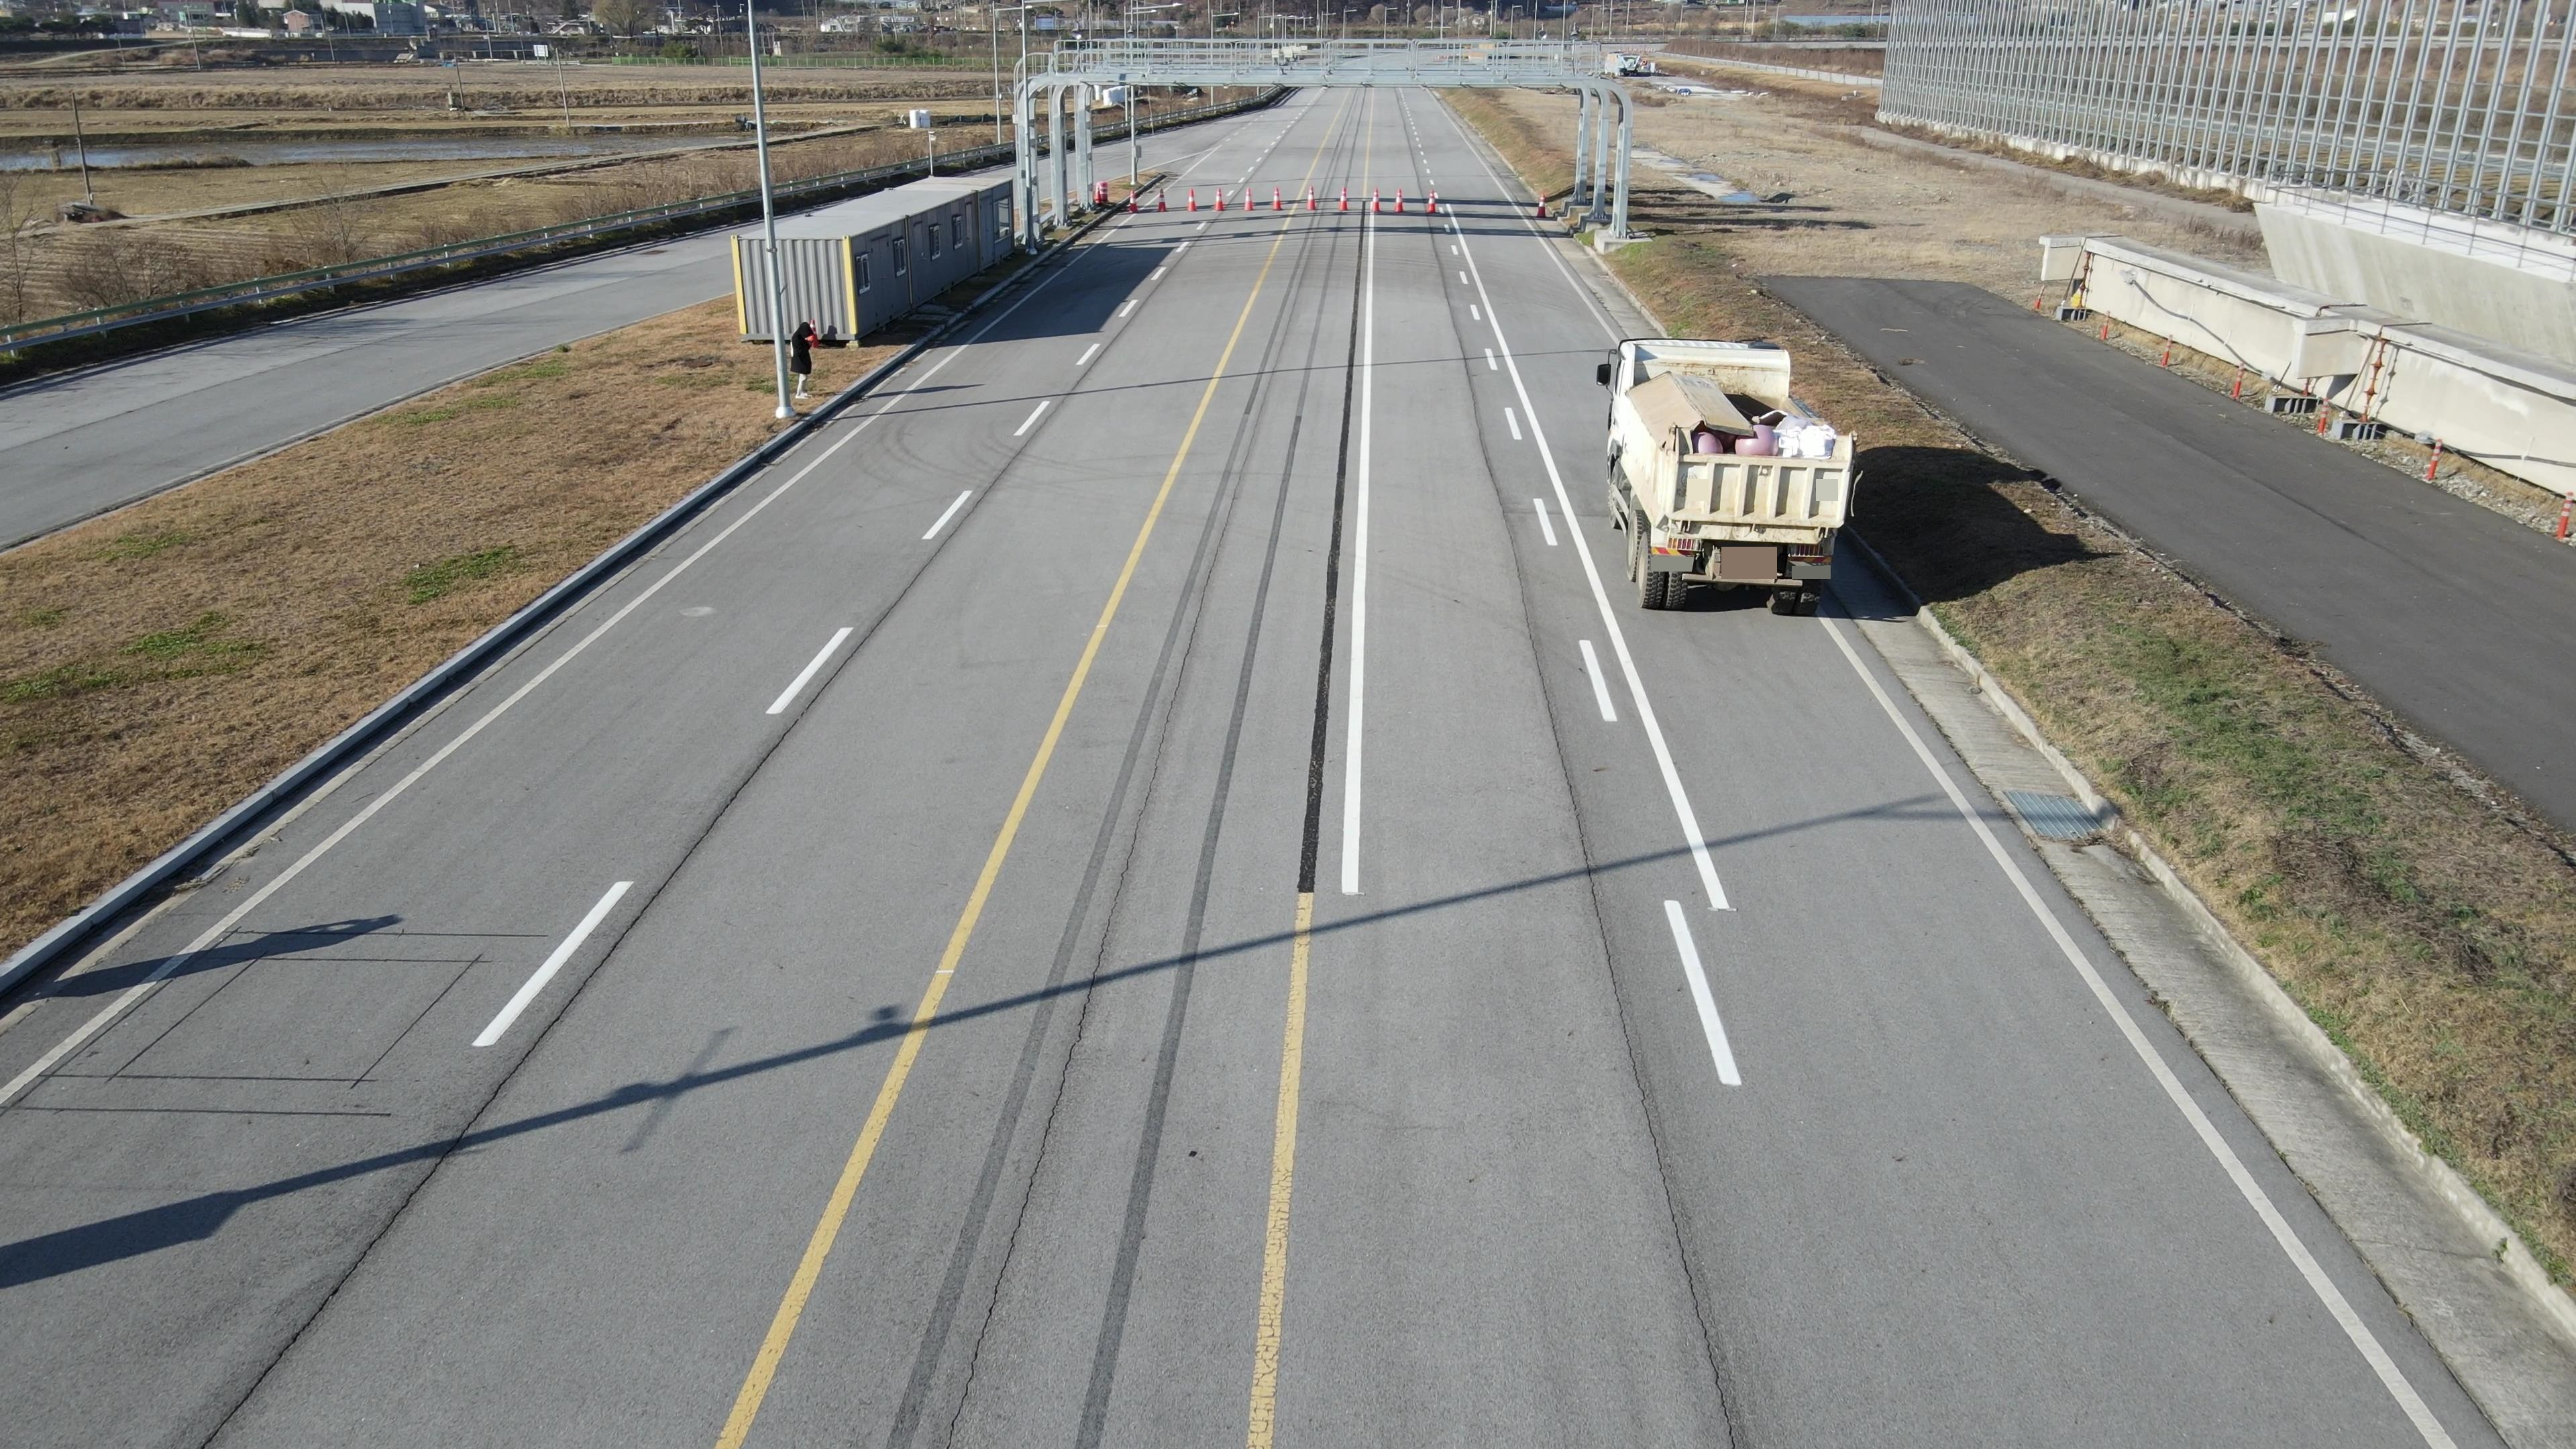불법차량: (1596, 336, 1865, 617)
